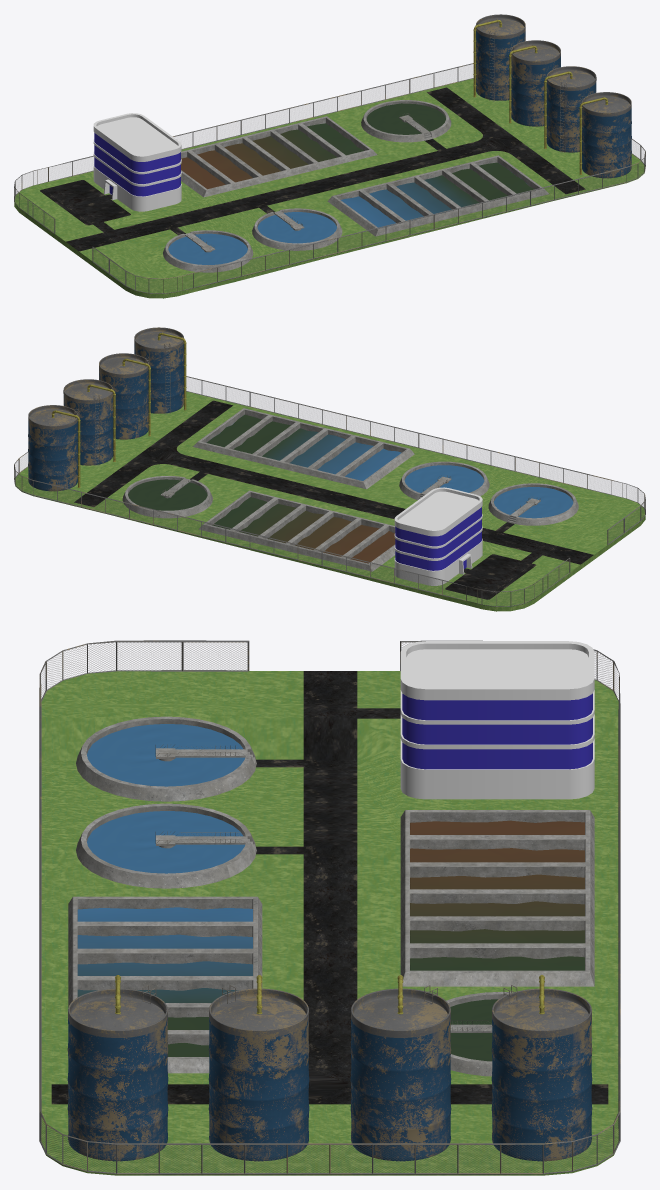
File: water_treatment_plant.glb
3 renders of one model, top to bottom at view 1: azimuth 30°, elevation 25°; view 2: azimuth 150°, elevation 25°; view 3: azimuth 270°, elevation 25°, orthographic. The views are drawn at different scales.
Visible parts, largest first — view 1: Ground_13, Silos_12, Fence.001_25, Building_14, Water_Filtration_Square.001_16, Water_Filtration_Square_5, Water_Filtration_Square_Water.001_15, Water_Filtration_Square_Water_4, Water_Basin_Round_Water.001_19, Water_Basin_Round_Water.002_23, Water_Basin_Round_Water_2, Water_Basin_Round_3 (+4 smaller); view 2: Ground_13, Silos_12, Fence.001_25, Building_14, Water_Filtration_Square.001_16, Water_Filtration_Square_5, Water_Filtration_Square_Water.001_15, Water_Filtration_Square_Water_4, Water_Basin_Round_Water_2, Water_Basin_Round_Water.002_23, Water_Basin_Round_Water.001_19, Water_Basin_Round.002_24 (+4 smaller); view 3: Ground_13, Silos_12, Building_14, Water_Filtration_Square_5, Fence.001_25, Water_Filtration_Square_Water_4, Water_Filtration_Square.001_16, Water_Filtration_Square_Water.001_15, Water_Basin_Round_Water.001_19, Water_Basin_Round_Water.002_23, Water_Basin_Round.002_24, Water_Basin_Round.001_20 (+2 smaller).
Boxes of the visible parts, x1,y1,x2,y2 form: Ground_13: [14, 78, 645, 298]; Silos_12: [475, 14, 631, 178]; Fence.001_25: [14, 63, 645, 293]; Building_14: [93, 113, 181, 211]; Water_Filtration_Square.001_16: [327, 155, 549, 236]; Water_Filtration_Square_5: [181, 116, 377, 197]; Water_Filtration_Square_Water.001_15: [341, 162, 535, 227]; Water_Filtration_Square_Water_4: [181, 123, 363, 189]; Water_Basin_Round_Water.001_19: [257, 212, 336, 243]; Water_Basin_Round_Water.002_23: [168, 233, 247, 264]; Water_Basin_Round_Water_2: [366, 103, 445, 134]; Water_Basin_Round_3: [361, 100, 451, 142]; Ground_13: [14, 391, 645, 611]; Silos_12: [28, 327, 184, 491]; Fence.001_25: [14, 376, 645, 606]; Building_14: [394, 487, 482, 585]; Water_Filtration_Square.001_16: [193, 408, 414, 489]; Water_Filtration_Square_5: [199, 490, 395, 571]; Water_Filtration_Square_Water.001_15: [206, 414, 401, 480]; Water_Filtration_Square_Water_4: [212, 497, 395, 563]; Water_Basin_Round_Water_2: [128, 479, 207, 510]; Water_Basin_Round_Water.002_23: [494, 487, 573, 518]; Water_Basin_Round_Water.001_19: [404, 465, 484, 492]; Water_Basin_Round.002_24: [488, 483, 578, 525]; Ground_13: [41, 671, 618, 1175]; Silos_12: [67, 988, 592, 1161]; Building_14: [400, 641, 594, 799]; Water_Filtration_Square_5: [400, 810, 594, 986]; Fence.001_25: [39, 640, 620, 1174]; Water_Filtration_Square_Water_4: [410, 820, 584, 970]; Water_Filtration_Square.001_16: [68, 896, 262, 1073]; Water_Filtration_Square_Water.001_15: [77, 907, 252, 1056]; Water_Basin_Round_Water.001_19: [87, 811, 244, 873]; Water_Basin_Round_Water.002_23: [87, 724, 244, 786]; Water_Basin_Round.002_24: [76, 716, 256, 801]; Water_Basin_Round.001_20: [76, 803, 256, 888].
Bounding box in the file's own units: 26.61 × 3.88 × 12.99.
Materials: 15 (11 with a texture image).
